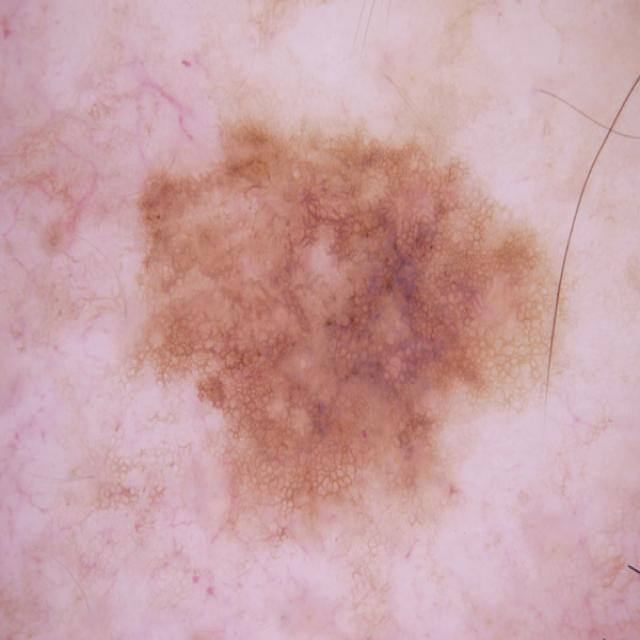Skin-Cancer Pigmented benign keratosis: (80, 64, 624, 607)
